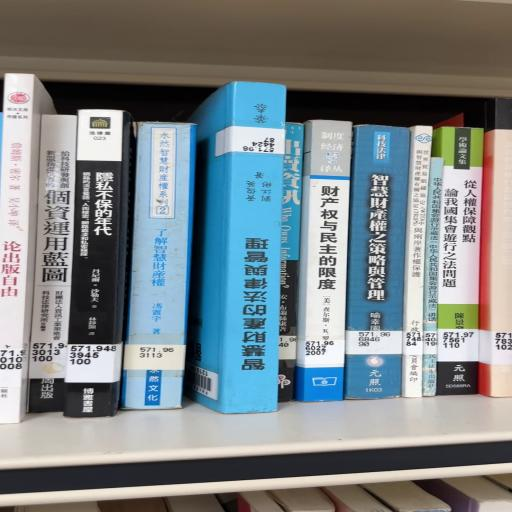book: (63, 109, 133, 418), (121, 122, 196, 409), (345, 125, 410, 399), (295, 120, 352, 402), (27, 115, 77, 413), (402, 125, 432, 397), (278, 123, 303, 401)
reverse: (185, 82, 286, 413)
